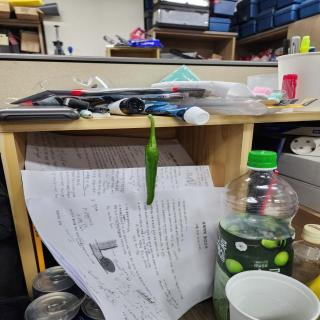Cabai Hijau: (137, 105, 184, 204)
